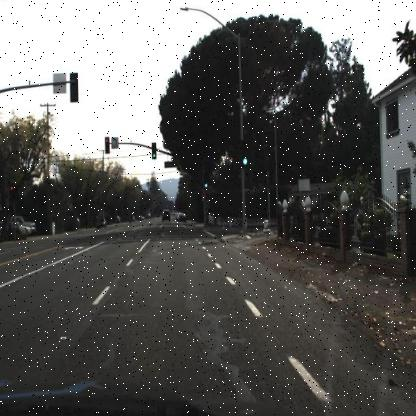car: (11, 211, 36, 236), (3, 218, 30, 240)
trafficLight-Green: (239, 137, 250, 171), (151, 140, 157, 161), (203, 173, 209, 189)
trafficLight-RedLeft: (103, 136, 111, 155)
